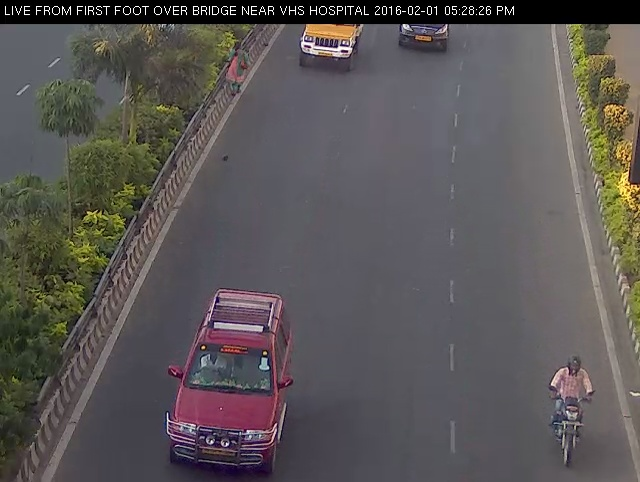Car: (160, 283, 302, 479), (295, 21, 369, 75), (386, 16, 465, 57)
Person: (543, 342, 601, 474), (219, 33, 257, 97)
